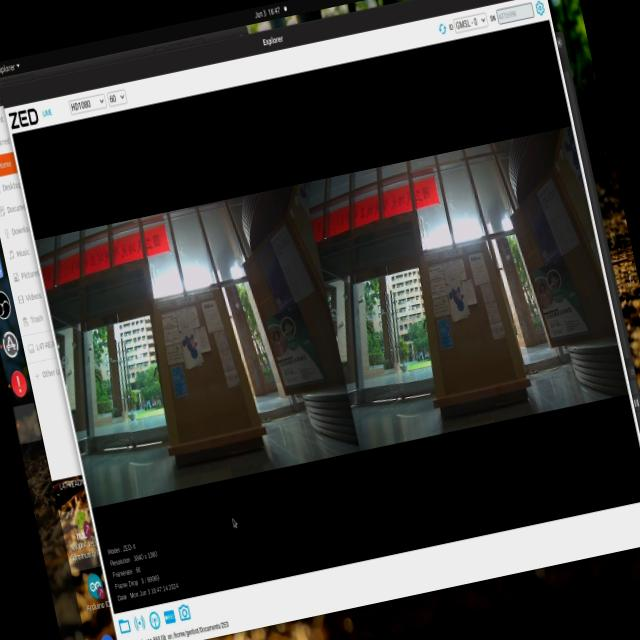blue: (441, 283, 472, 325), (179, 320, 205, 370)
